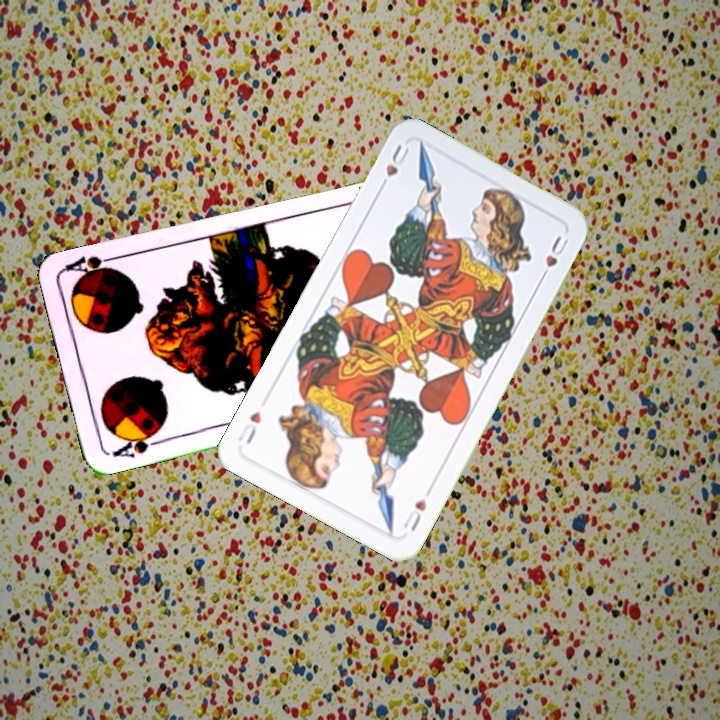HU: (374, 140, 412, 194), (399, 494, 430, 535)
SA: (108, 426, 165, 460)
